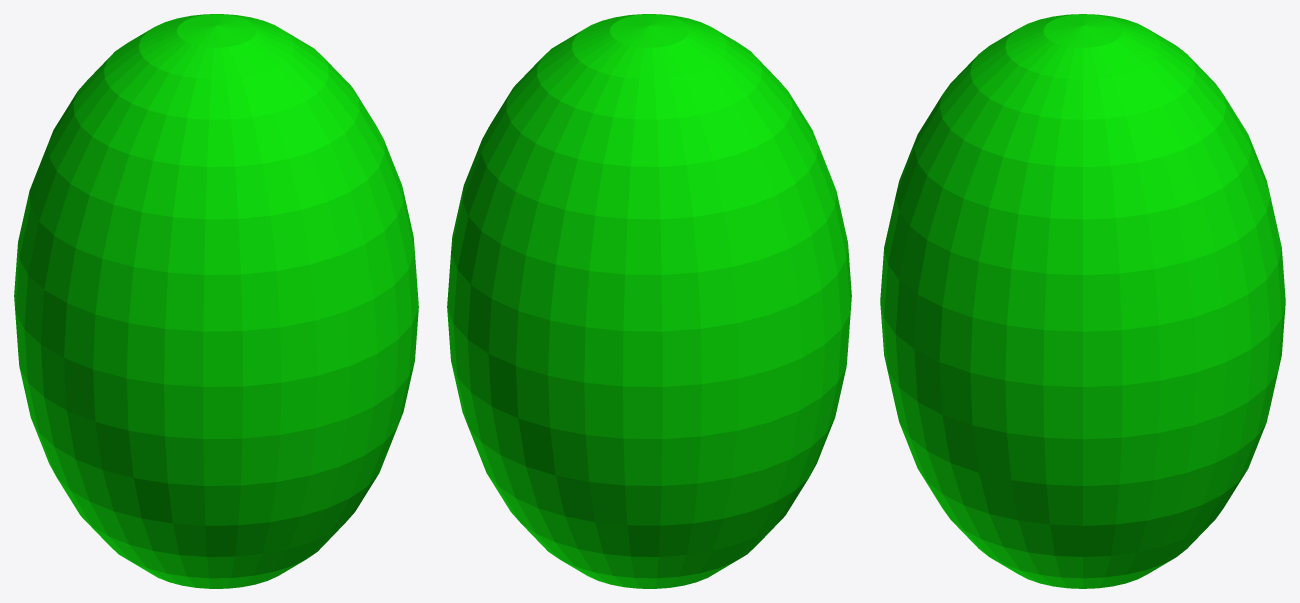
The model's file is Frog_Eggs.fbx.
3 renders of one model, left to right at view 1: azimuth 30°, elevation 25°; view 2: azimuth 150°, elevation 25°; view 3: azimuth 270°, elevation 25°, orthographic.
Parts seen in each view (by area): view 1: Eggs; view 2: Eggs; view 3: Eggs.
Boxes of the visible parts, x1,y1,x2,y2 form: Eggs: (14, 14, 418, 588); Eggs: (447, 14, 851, 588); Eggs: (880, 14, 1285, 588).
Size of the model in its own units: 400 by 600 by 400.
